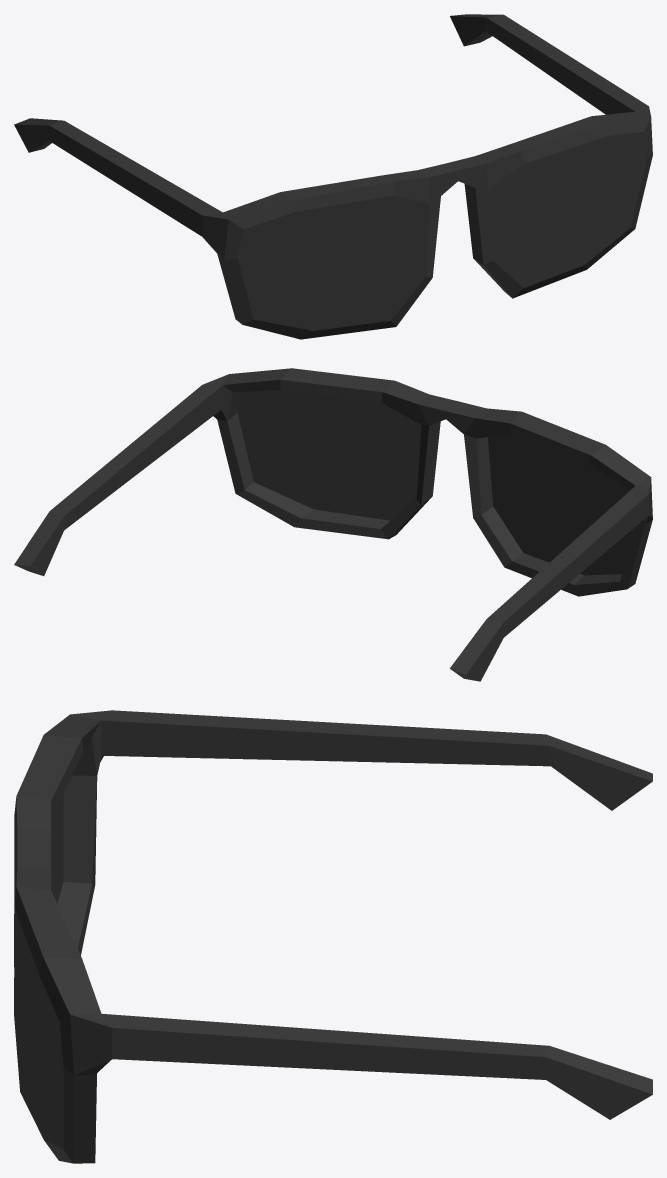
The model's file is Sunglasses2.fbx.
3 renders of one model, top to bottom at view 1: azimuth 30°, elevation 25°; view 2: azimuth 150°, elevation 25°; view 3: azimuth 270°, elevation 25°, orthographic. The views are drawn at different scales.
Parts seen in each view (by area): view 1: Sunglasses2; view 2: Sunglasses2; view 3: Sunglasses2.
Part boxes in pixels (<box>): Sunglasses2: <box>14,14,652,339</box>; Sunglasses2: <box>14,368,652,681</box>; Sunglasses2: <box>14,710,652,1163</box>.
Size of the model in its own units: 0.2127 by 0.0672 by 0.1779.
